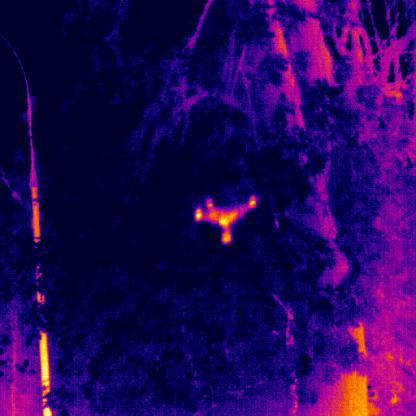drone: (193, 194, 258, 244)
